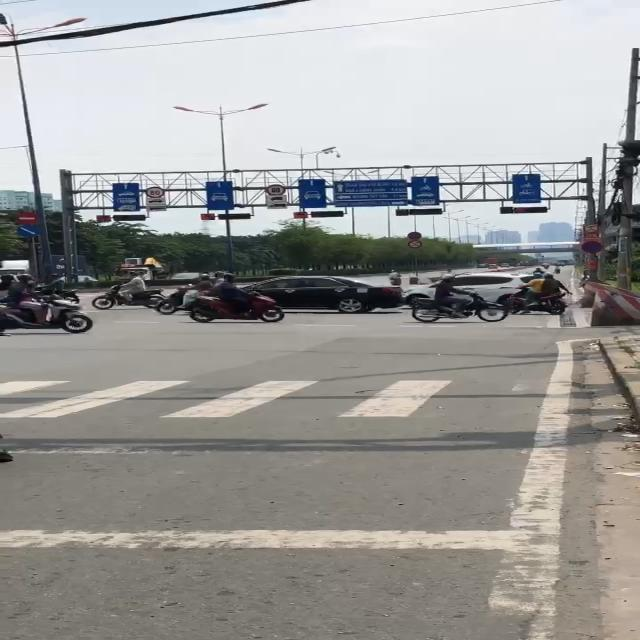Bien bao cam di nguoc chieu: (15, 211, 40, 224)
Bien bao huong phai di vong chuong ngai vat: (18, 224, 41, 237)
Bien bao toc do toi da cho phep: (142, 186, 166, 199)
